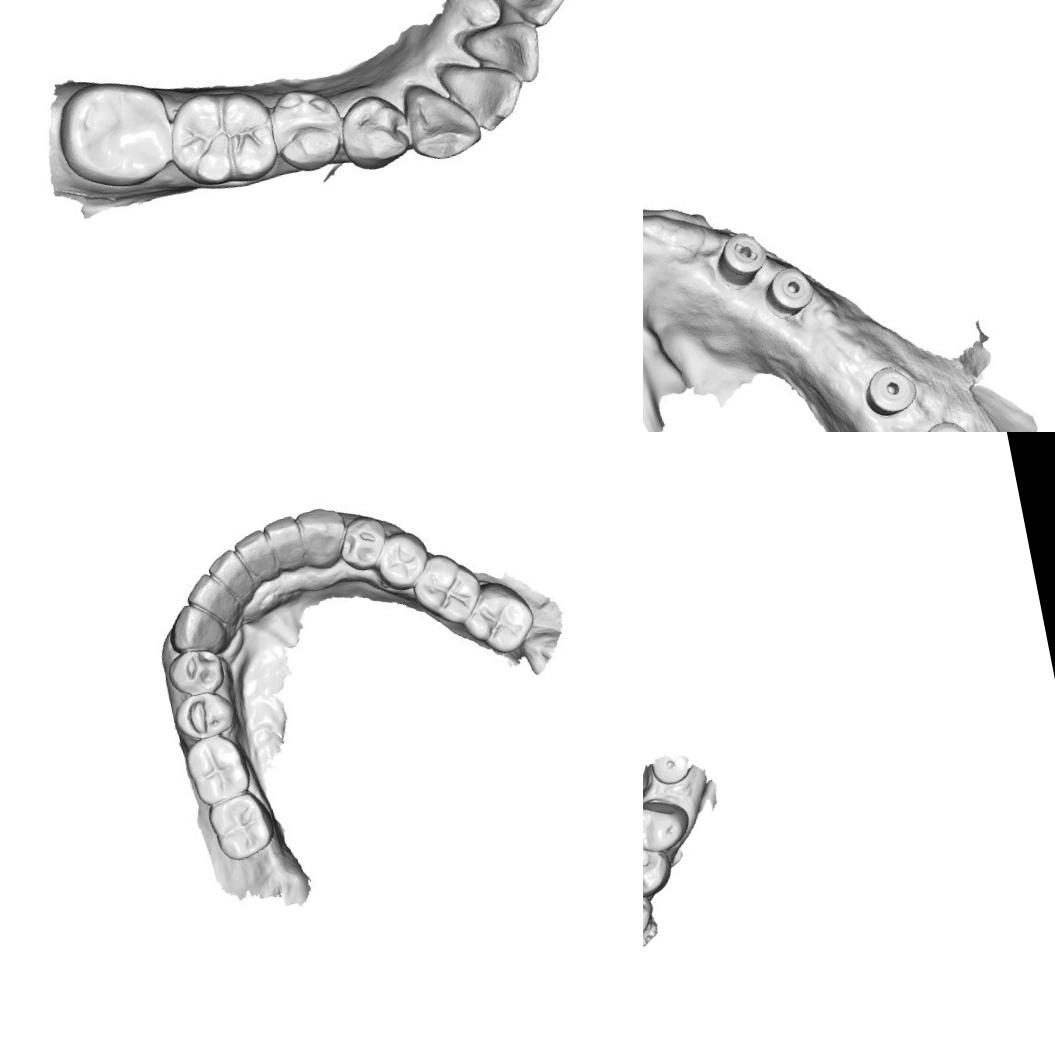canine: (393, 66, 488, 169), (294, 502, 354, 573), (165, 596, 231, 660), (643, 873, 659, 948)
implant: (852, 347, 940, 432), (755, 254, 828, 330), (904, 404, 986, 432), (648, 751, 693, 788)
implant_minus: (706, 221, 771, 293)
incisor: (432, 44, 529, 133), (455, 12, 552, 96), (182, 568, 241, 632), (204, 544, 257, 608), (230, 526, 280, 592), (477, 0, 573, 34), (260, 513, 309, 576)
molar: (45, 64, 180, 200), (158, 76, 280, 196), (454, 576, 540, 662), (404, 546, 486, 636), (204, 786, 279, 868), (180, 729, 254, 807)
premolar: (261, 83, 347, 178), (329, 86, 418, 177), (370, 526, 435, 594), (168, 686, 241, 746), (332, 509, 394, 576), (162, 644, 226, 701), (643, 793, 695, 858), (643, 838, 676, 901)
